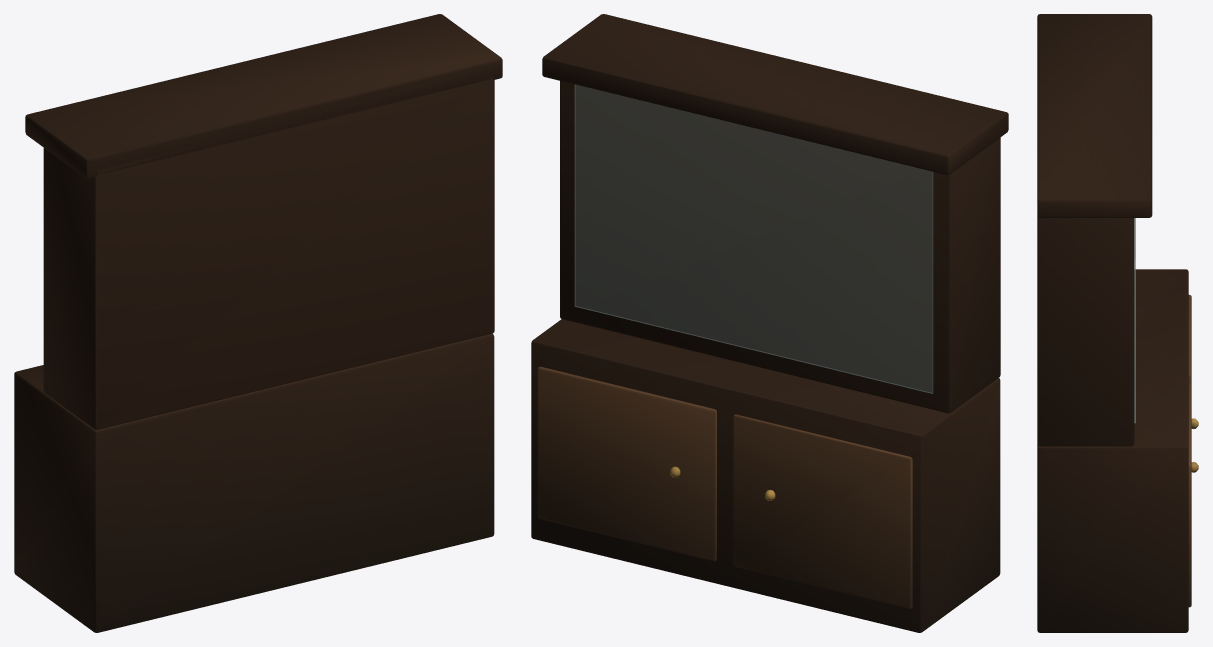
The model's file is ChinaHutch.glb.
3 views of the same model, side by side, from view 1: azimuth 30°, elevation 25°; view 2: azimuth 150°, elevation 25°; view 3: azimuth 270°, elevation 25° (orthographic). The views are drawn at different scales.
Visible parts, largest first — view 1: ChinaHutch_wood_dark; view 2: ChinaHutch_wood_dark, ChinaHutch_glass, ChinaHutch_wood; view 3: ChinaHutch_wood_dark, ChinaHutch_wood, ChinaHutch_glass.
Part boxes in pixels (x1,y1,x2,y2): ChinaHutch_wood_dark: [14, 14, 502, 632]; ChinaHutch_wood_dark: [531, 14, 1008, 632]; ChinaHutch_glass: [574, 84, 933, 393]; ChinaHutch_wood: [537, 366, 912, 608]; ChinaHutch_wood_dark: [1037, 14, 1188, 632]; ChinaHutch_wood: [1188, 295, 1191, 607]; ChinaHutch_glass: [1134, 218, 1135, 423].
Bounding box in the file's own units: 7.3 × 7.98 × 2.67.
